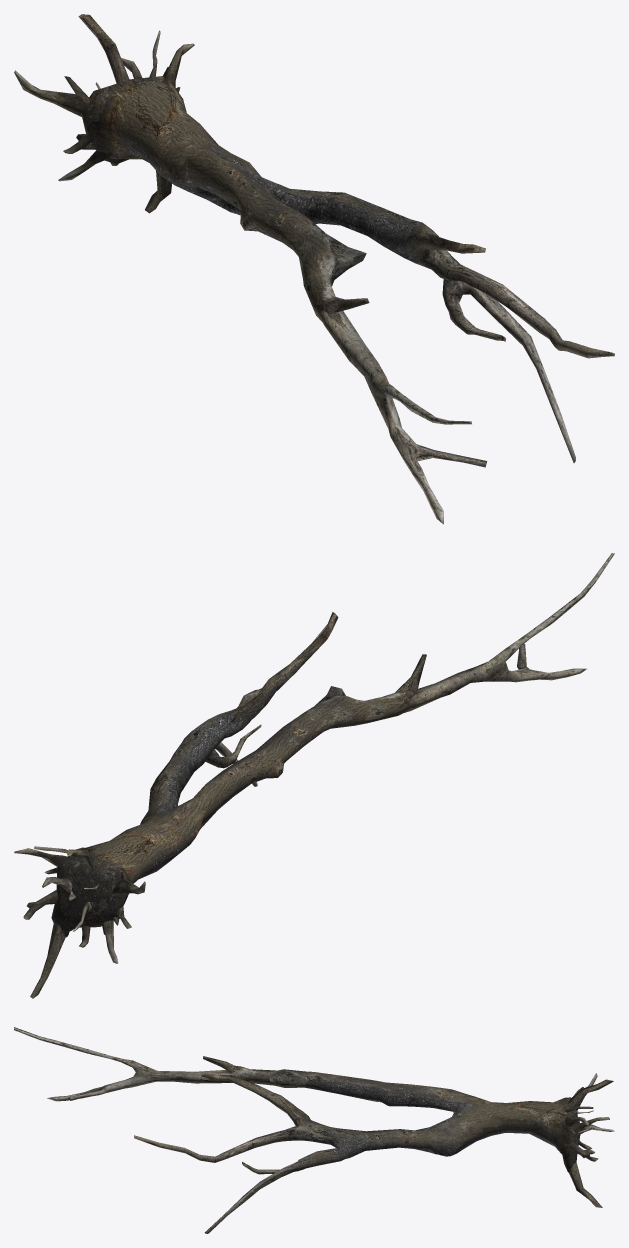
The model's file is hd_env_UNI_073_BurntTree_01.fbx.
3 views of the same model, one above another, from view 1: azimuth 30°, elevation 25°; view 2: azimuth 150°, elevation 25°; view 3: azimuth 270°, elevation 25° (orthographic). The views are drawn at different scales.
Parts seen in each view (by area): view 1: set_0_group_0, set_0_group_1; view 2: set_0_group_0, set_0_group_1; view 3: set_0_group_0, set_0_group_1.
Part boxes in pixels (x1=…): set_0_group_0: x1=82, y1=76, x2=614, y2=524; set_0_group_1: x1=14, y1=14, x2=194, y2=213; set_0_group_0: x1=51, y1=553, x2=614, y2=937; set_0_group_1: x1=14, y1=846, x2=145, y2=998; set_0_group_0: x1=14, y1=1027, x2=580, y2=1233; set_0_group_1: x1=564, y1=1073, x2=614, y2=1207.
Bounding box in the file's own units: 348 × 283 × 1143.
